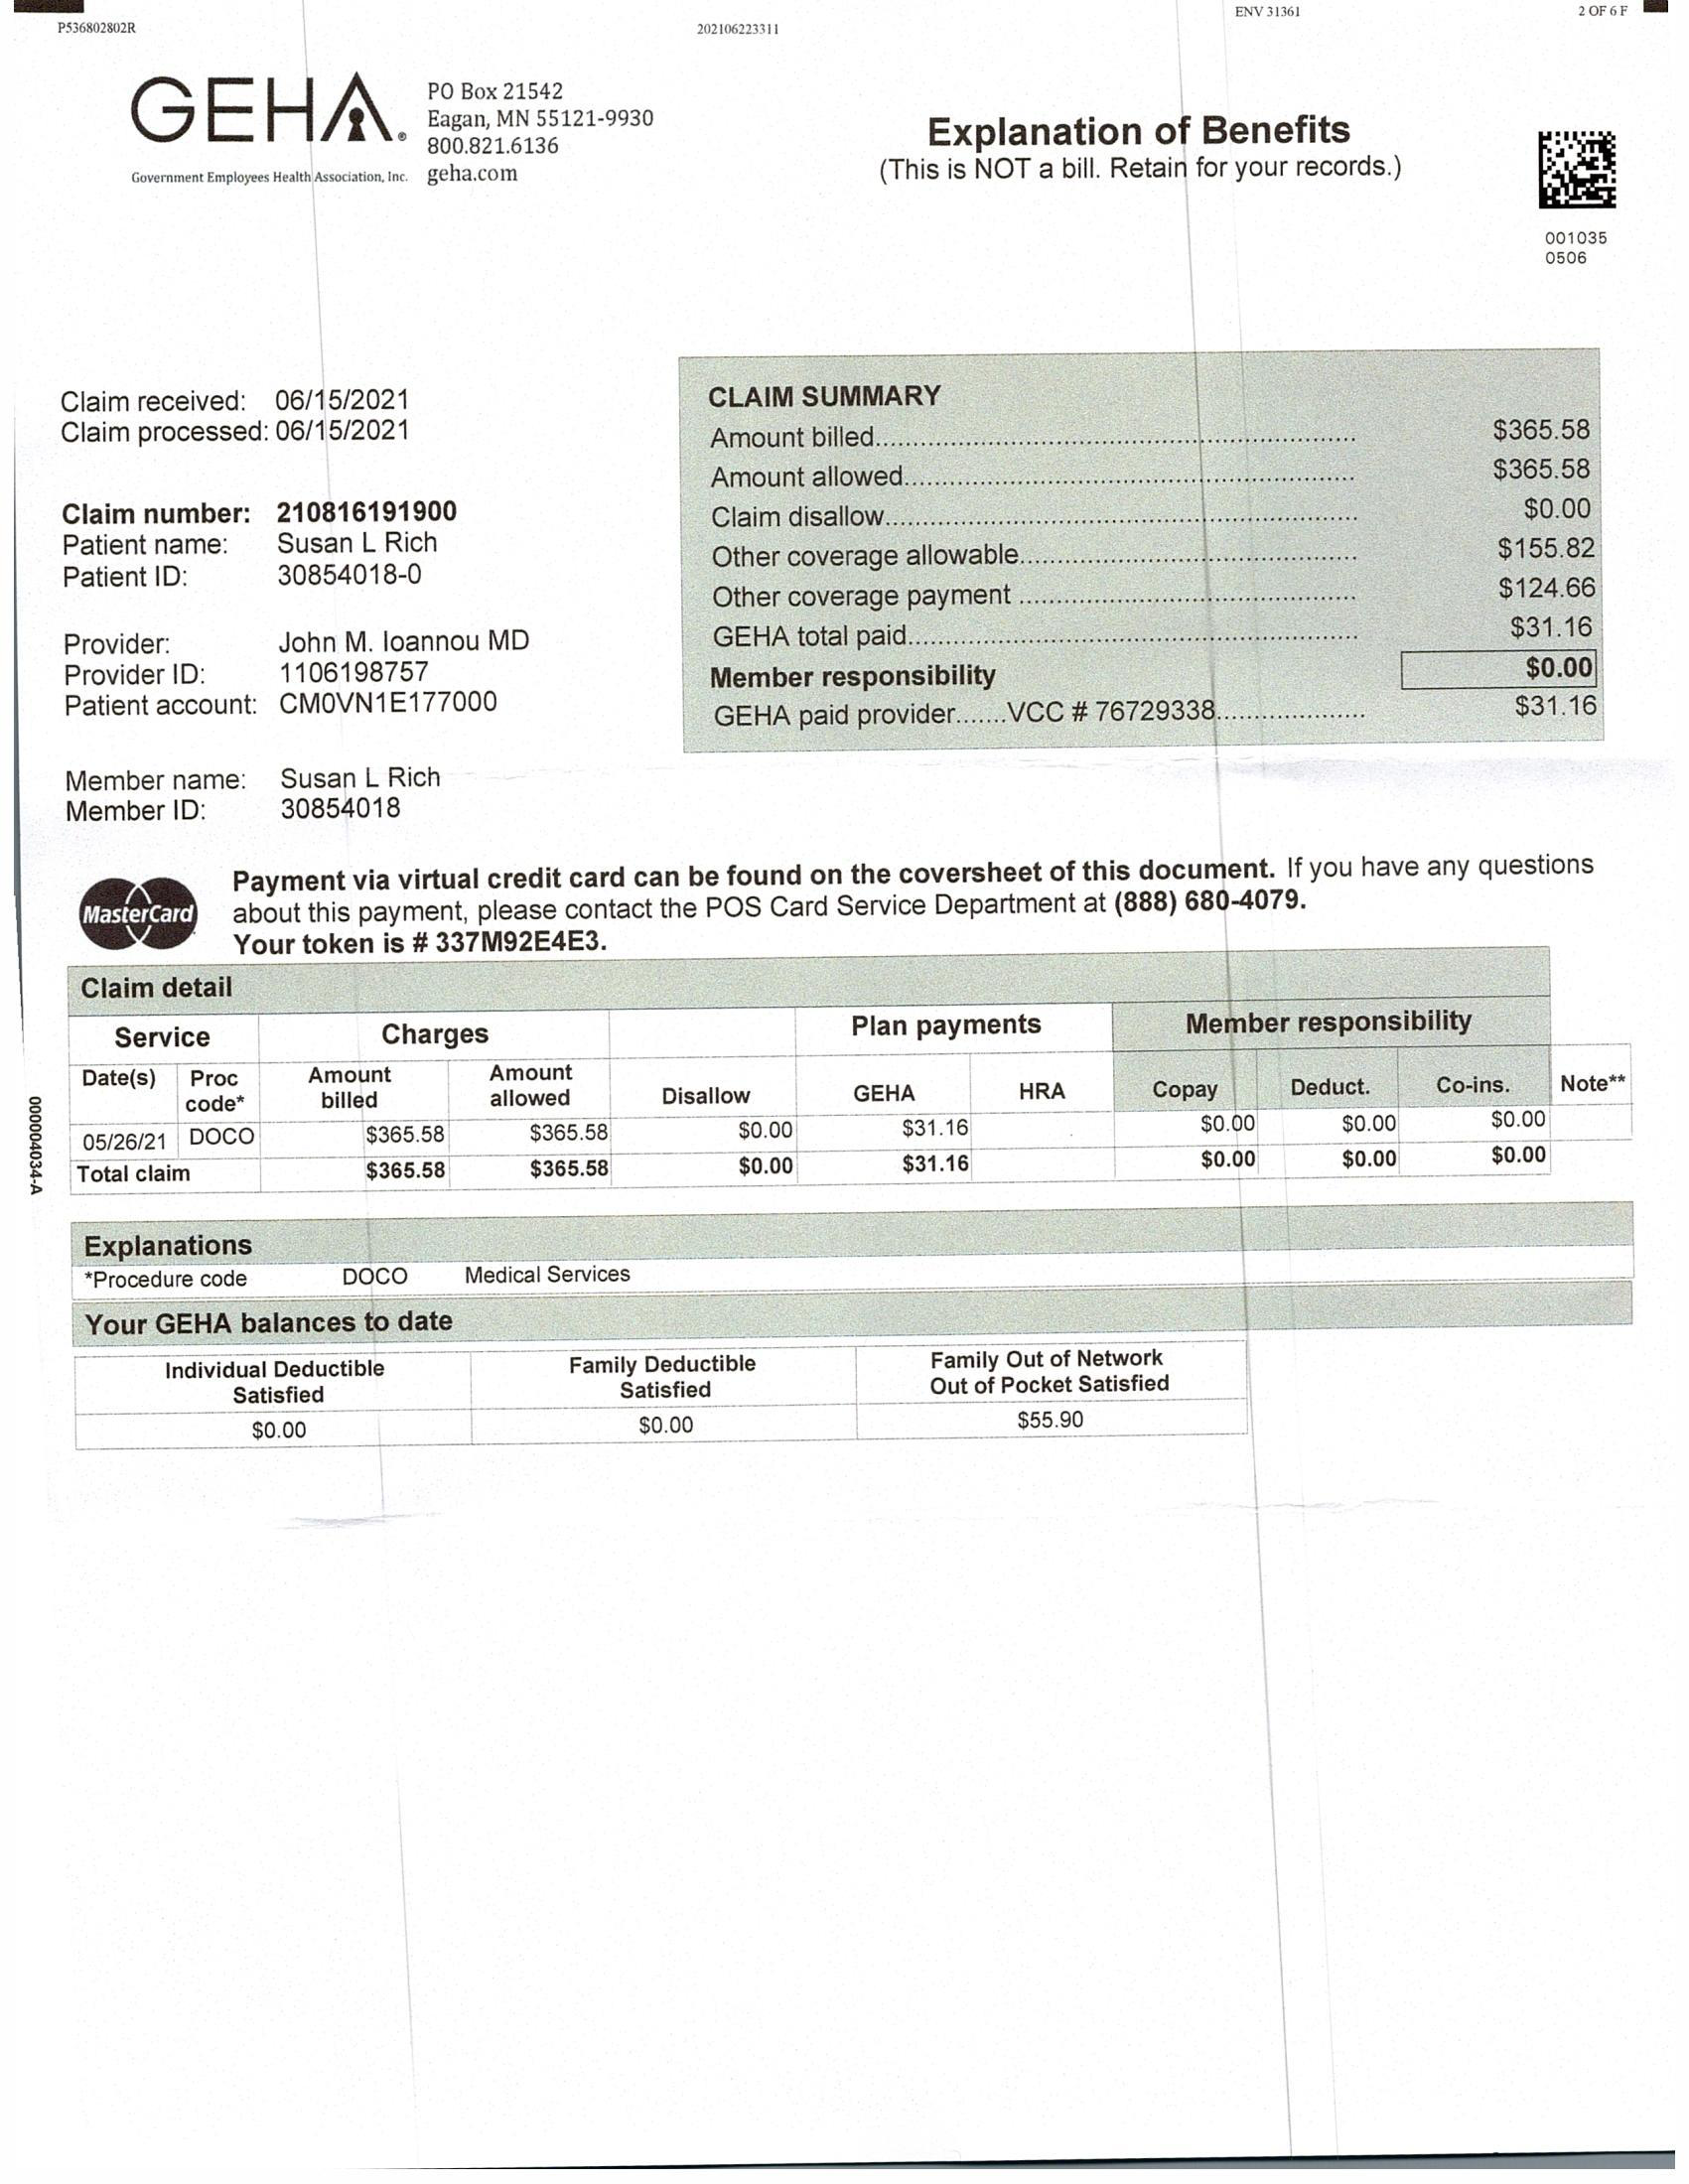data: (663, 331, 1622, 750), (46, 622, 548, 736), (48, 487, 480, 601), (55, 365, 422, 468), (39, 762, 464, 837)
table: (55, 947, 1652, 1198)
